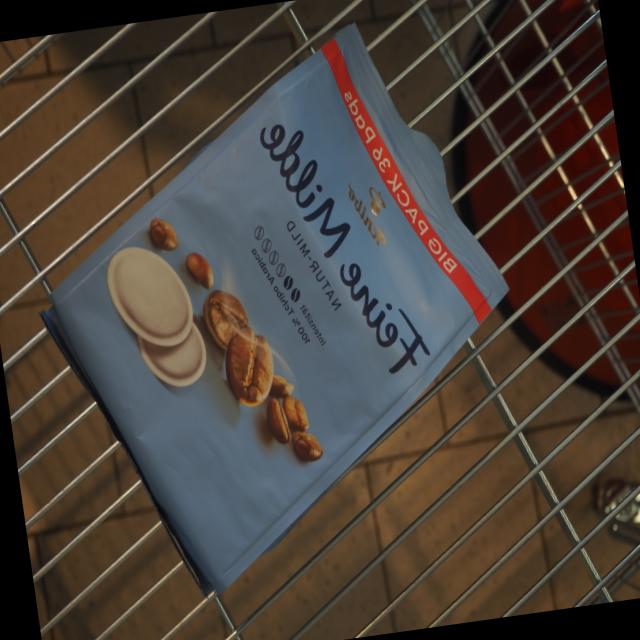FM 36 Pads: (26, 7, 522, 627)
